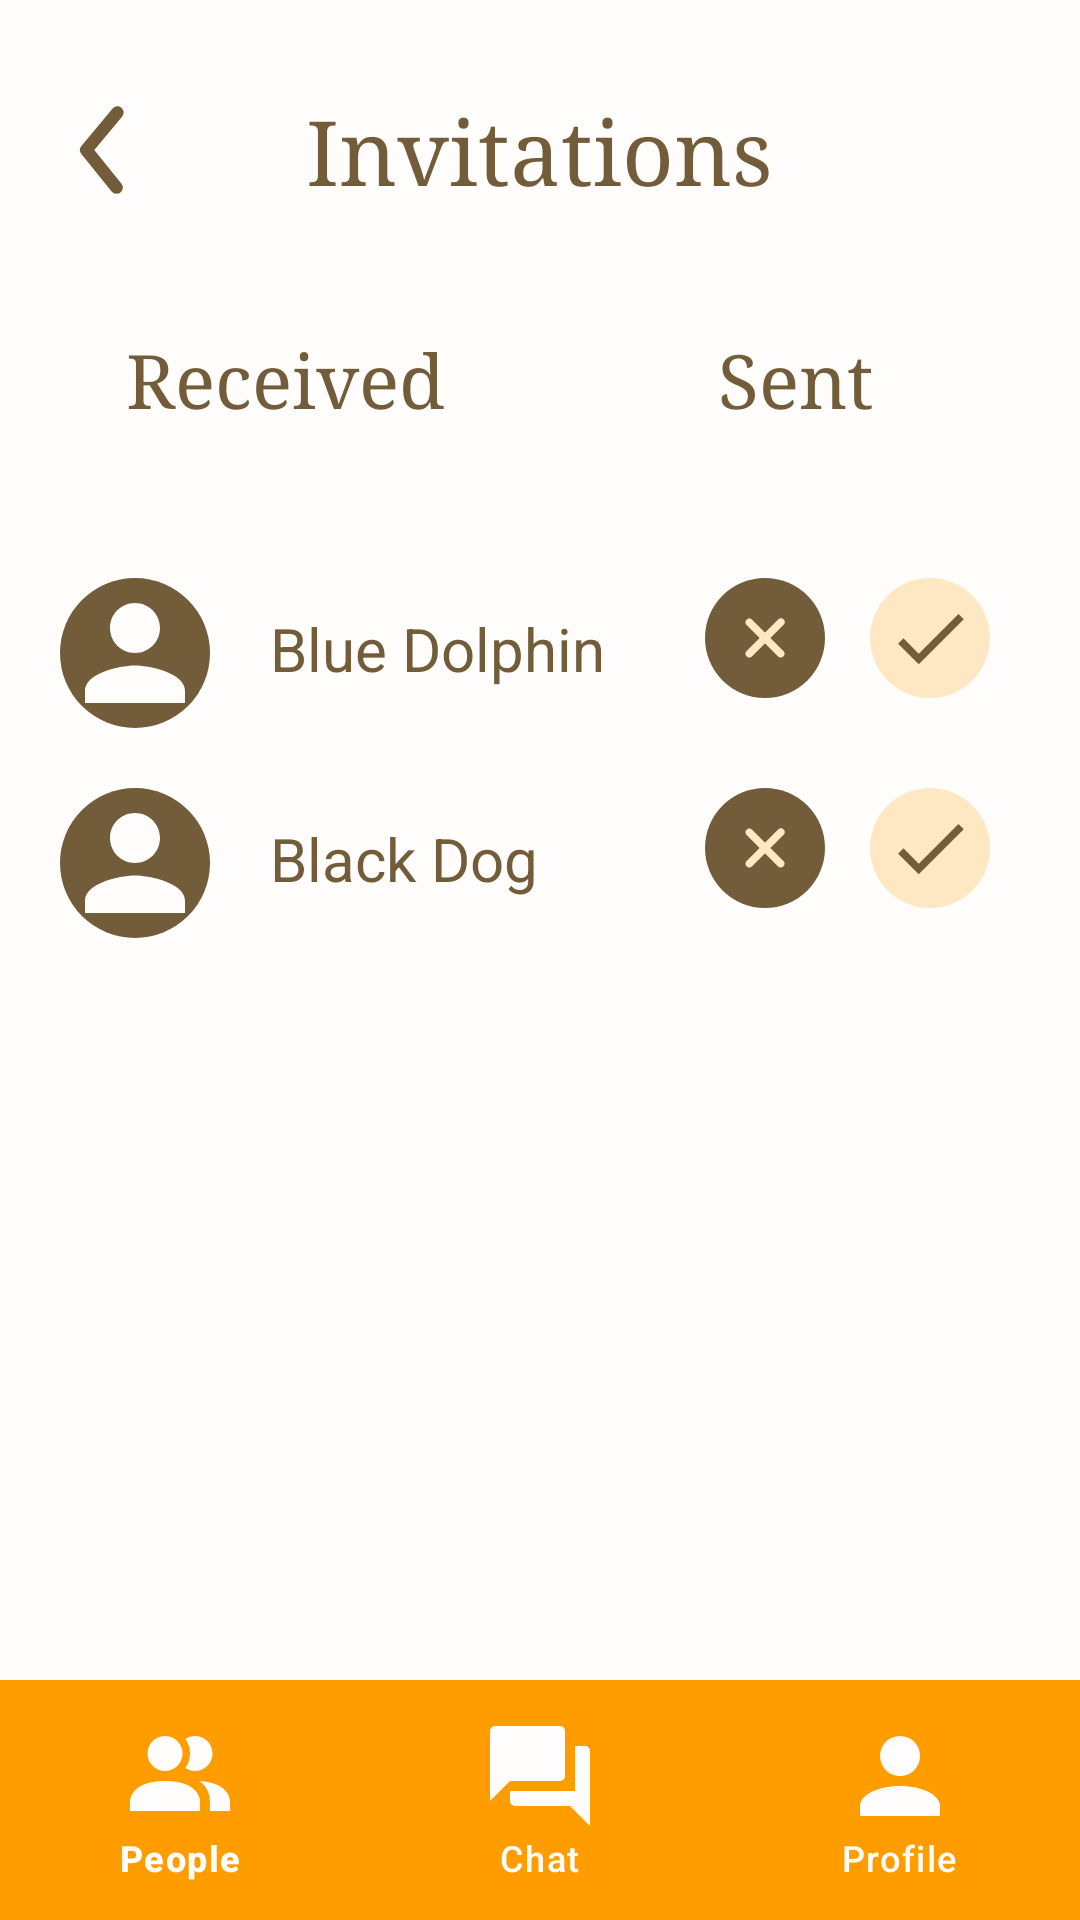

Named icons in this screenshot (1080px x 1920px) and their bounding boxes, (x1, y1, x2, y2):
check accept: (870, 578, 990, 698), (870, 788, 990, 908)
reject close: (705, 578, 825, 698), (705, 788, 825, 908)
